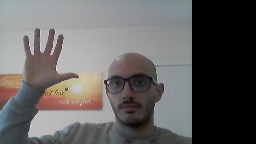Mano_aperta: (19, 25, 80, 91)
